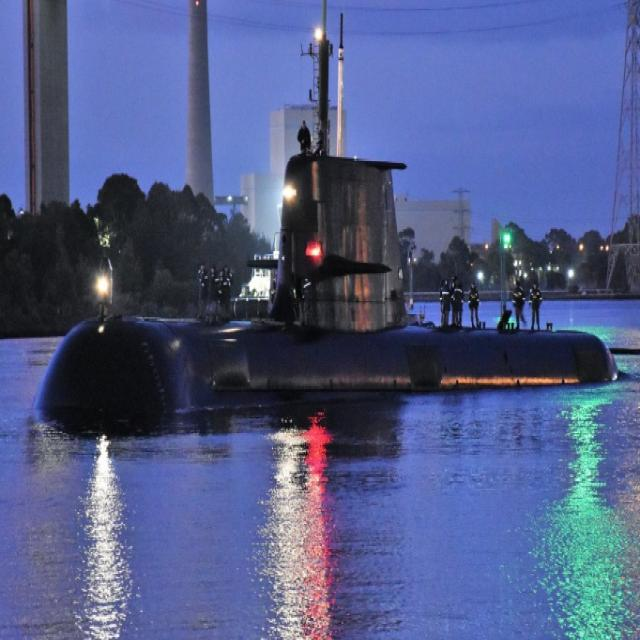submarine: (29, 1, 623, 433)
